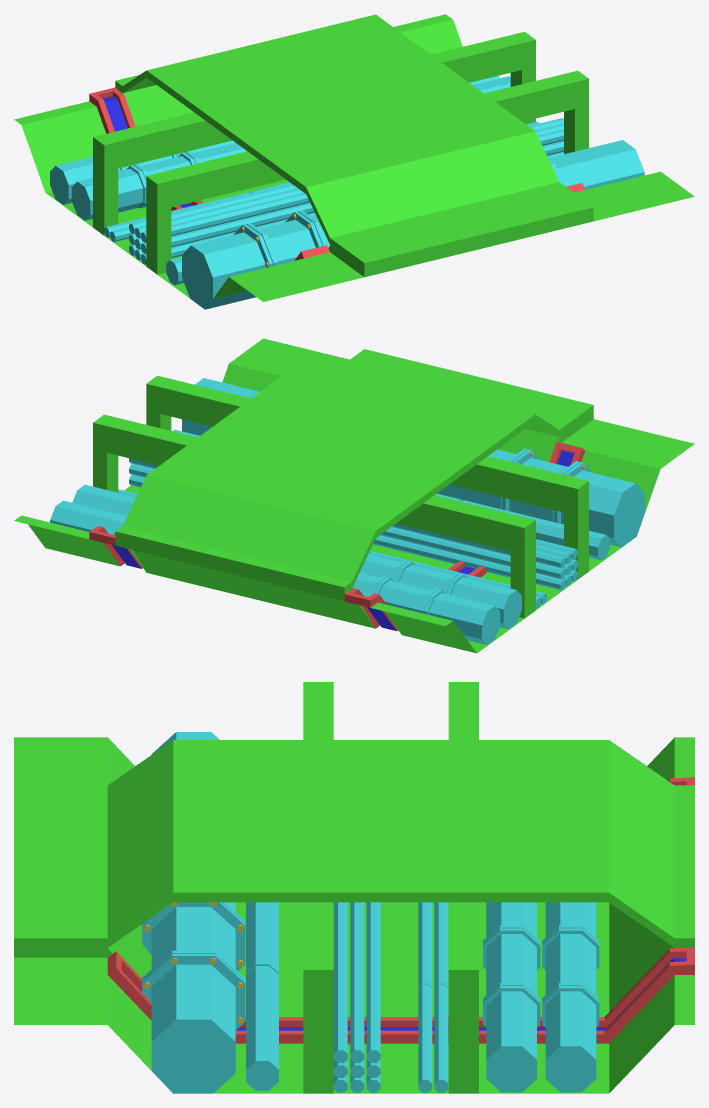
Rendered from Interior_Deco_03_E.fbx.
The picture shows the model from 3 angles, top to bottom: view 1: azimuth 30°, elevation 25°; view 2: azimuth 150°, elevation 25°; view 3: azimuth 270°, elevation 25°; orthographic projection. The views are drawn at different scales.
Visible parts, largest first — view 1: Interior_Deco_03_E; view 2: Interior_Deco_03_E; view 3: Interior_Deco_03_E.
Boxes of the visible parts, x1,y1,x2,y2 form: Interior_Deco_03_E: [14, 14, 694, 309]; Interior_Deco_03_E: [14, 338, 694, 653]; Interior_Deco_03_E: [14, 682, 694, 1093].
Size of the model in its own units: 457 by 98.92 by 457.
